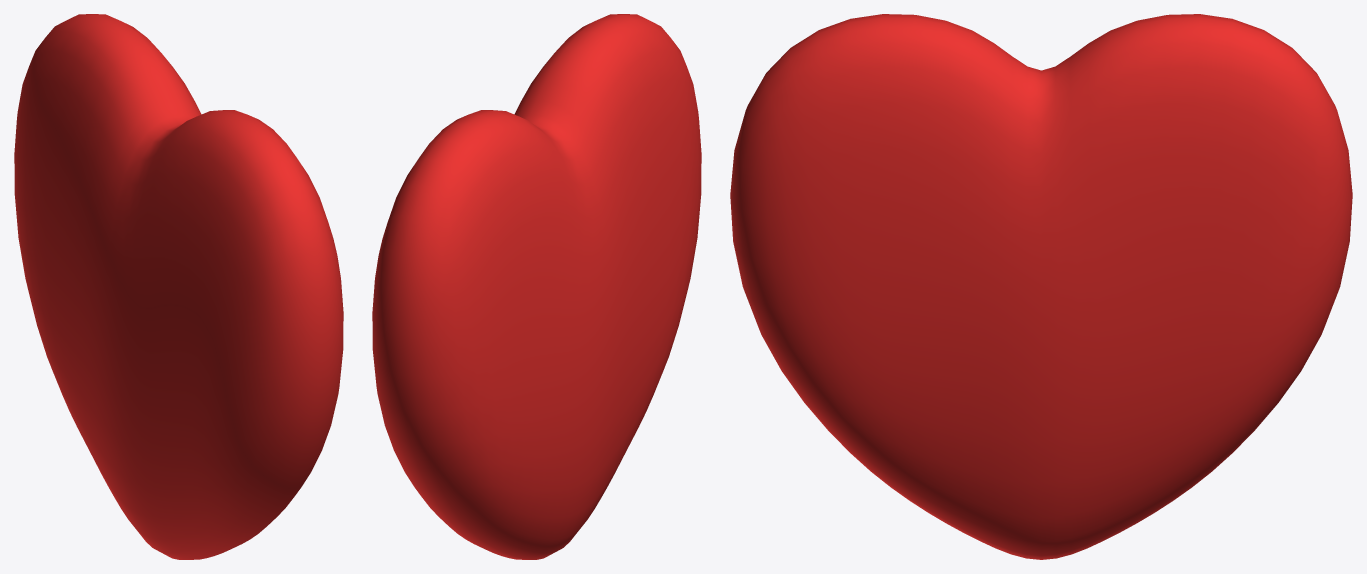
Rendered from Heart.fbx.
The picture shows the model from 3 angles, left to right: view 1: azimuth 30°, elevation 25°; view 2: azimuth 150°, elevation 25°; view 3: azimuth 270°, elevation 25°; orthographic projection. The views are drawn at different scales.
Parts seen in each view (by area): view 1: Cube; view 2: Cube; view 3: Cube.
Boxes of the visible parts, box(x1,y1,x2,y2) form: Cube: box(14, 14, 343, 559); Cube: box(372, 14, 701, 559); Cube: box(730, 14, 1352, 559).
Size of the model in its own units: 63.63 by 218 by 228.
